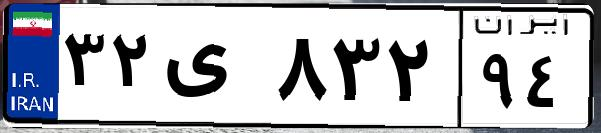2: (385, 28, 445, 110), (110, 28, 158, 98)
3: (330, 28, 385, 110), (57, 26, 110, 100)
4: (525, 38, 570, 115)
8: (270, 28, 330, 110)
9: (475, 38, 525, 113)
ی: (158, 20, 270, 120)
